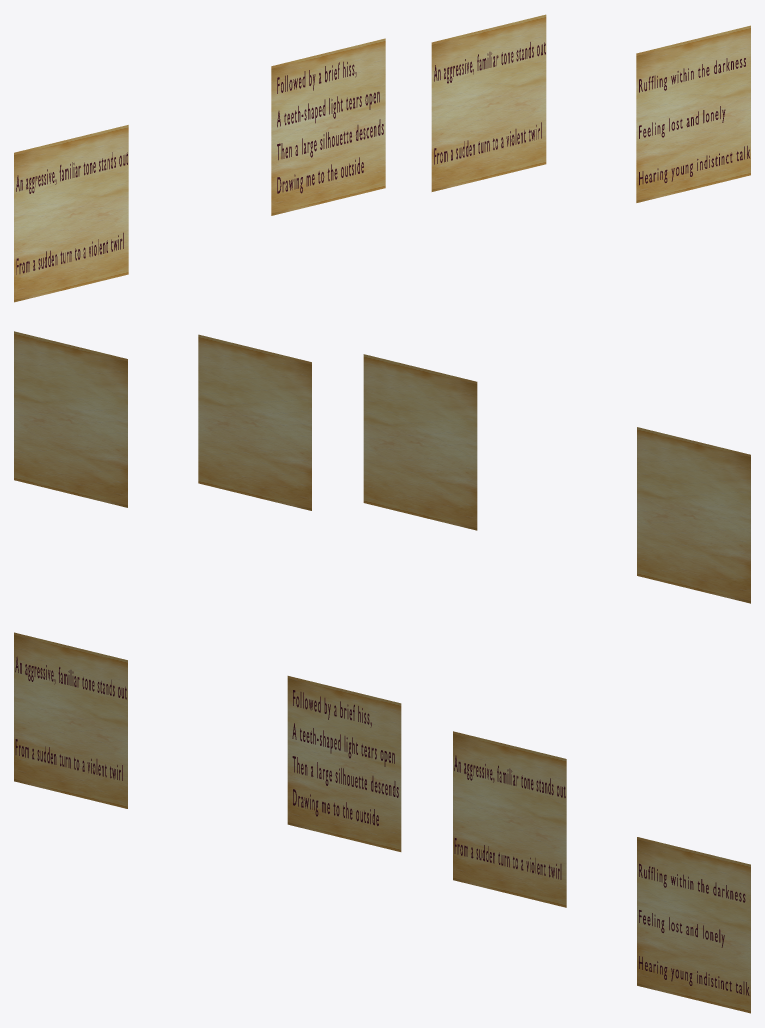
The model's file is Poem.fbx.
3 views of the same model, one above another, from view 1: azimuth 30°, elevation 25°; view 2: azimuth 150°, elevation 25°; view 3: azimuth 330°, elevation 25° (orthographic).
Visible parts, largest first — view 1: Plane.001, Plane.003, Plane, Plane.002, Text.002, Text, Text.001, Text.003; view 2: Plane.002, Plane, Plane.003, Plane.001; view 3: Plane.001, Plane.003, Plane.002, Plane, Text.002, Text, Text.001, Text.003.
Boxes of the visible parts, box(x1,y1,x2,y2) form: Plane.001: box(431, 14, 546, 191); Plane.003: box(14, 125, 128, 302); Plane: box(636, 25, 750, 202); Plane.002: box(271, 38, 385, 215); Text.002: box(277, 61, 383, 193); Text: box(639, 58, 749, 185); Text.001: box(434, 42, 545, 164); Text.003: box(16, 152, 127, 274); Plane.002: box(363, 354, 477, 530); Plane: box(14, 331, 127, 507); Plane.003: box(637, 427, 750, 603); Plane.001: box(198, 334, 311, 510); Plane.001: box(453, 731, 566, 907); Plane.003: box(14, 632, 127, 808); Plane.002: box(287, 676, 401, 851); Plane: box(637, 837, 750, 1013); Text.002: box(292, 690, 398, 825); Text: box(639, 863, 749, 995); Text.001: box(454, 755, 565, 879); Text.003: box(15, 656, 126, 780).
Size of the model in its own units: 171 by 48.46 by 4.9.
2 materials, 1 textured.
